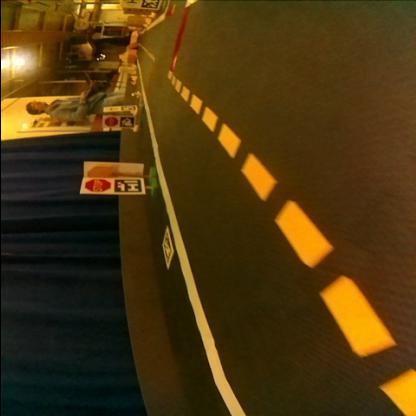Duckie: (130, 92, 138, 98)
Intersection sign: (122, 1, 136, 7), (102, 107, 110, 113)
QR code: (160, 230, 172, 268), (113, 178, 141, 194), (140, 1, 158, 9), (120, 120, 132, 128)
Stop sign: (84, 180, 110, 194), (102, 118, 116, 128)
